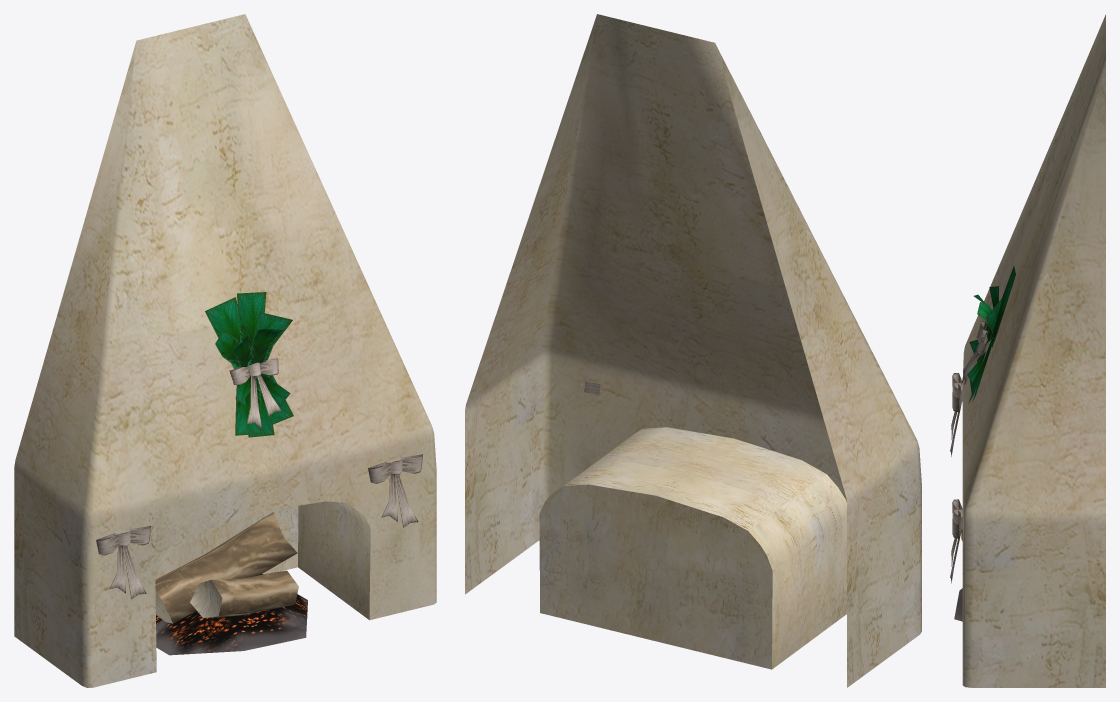
The model's file is fireplace_stucco.fbx.
The picture shows the model from 3 angles, left to right: view 1: azimuth 30°, elevation 25°; view 2: azimuth 150°, elevation 25°; view 3: azimuth 270°, elevation 25°; orthographic projection. The views are drawn at different scales.
Parts seen in each view (by area): view 1: FireBox2, log1, embers, log2, leaf_03, leaf_02, leaf_10, loops, loops.001, leaf_04; view 2: FireBox2; view 3: FireBox2, leaf_03, loops.001, loops, leaf_04.
Boxes of the visible parts, left/top/right/bottom form: FireBox2: left=14, top=14, right=436, bottom=687; log1: left=155, top=512, right=297, bottom=623; embers: left=156, top=574, right=307, bottom=655; log2: left=190, top=570, right=298, bottom=618; leaf_03: left=237, top=292, right=266, bottom=347; leaf_02: left=205, top=297, right=240, bottom=369; leaf_10: left=235, top=377, right=261, bottom=435; loops: left=96, top=526, right=151, bottom=555; loops.001: left=368, top=454, right=422, bottom=483; leaf_04: left=247, top=312, right=292, bottom=366; FireBox2: left=465, top=14, right=921, bottom=687; FireBox2: left=962, top=14, right=1105, bottom=687; leaf_03: left=990, top=271, right=1013, bottom=347; loops.001: left=952, top=499, right=962, bottom=538; loops: left=952, top=373, right=962, bottom=411; leaf_04: left=986, top=298, right=1002, bottom=344.
Size of the model in its own units: 1451 by 2226 by 559.
Materials: 3 (3 with a texture image).
